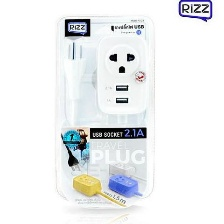book: (49, 11, 160, 212)
three_eye_plug: (92, 28, 152, 117)
